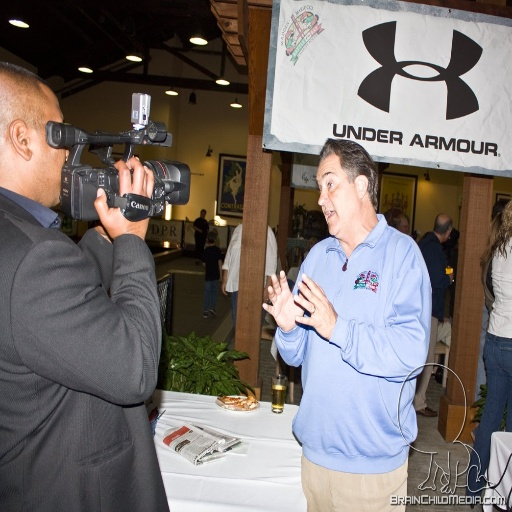hand: (92, 152, 154, 239), (258, 267, 306, 334), (289, 276, 338, 338), (219, 283, 230, 295)
